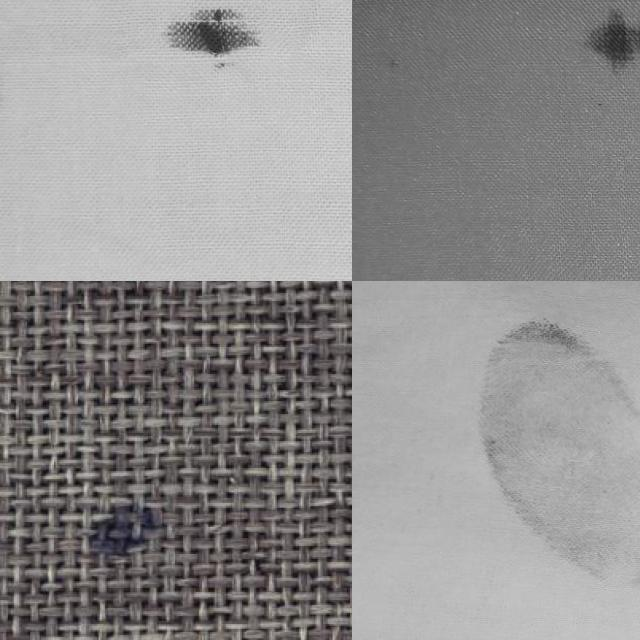Thread_other: (380, 281, 640, 640), (141, 0, 280, 94), (69, 476, 169, 594), (558, 0, 640, 102)
